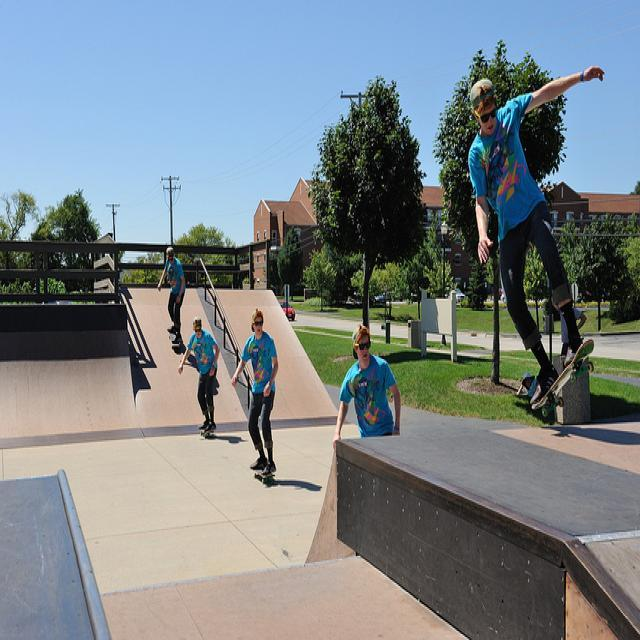fire_hydrant: (381, 320, 390, 344)
